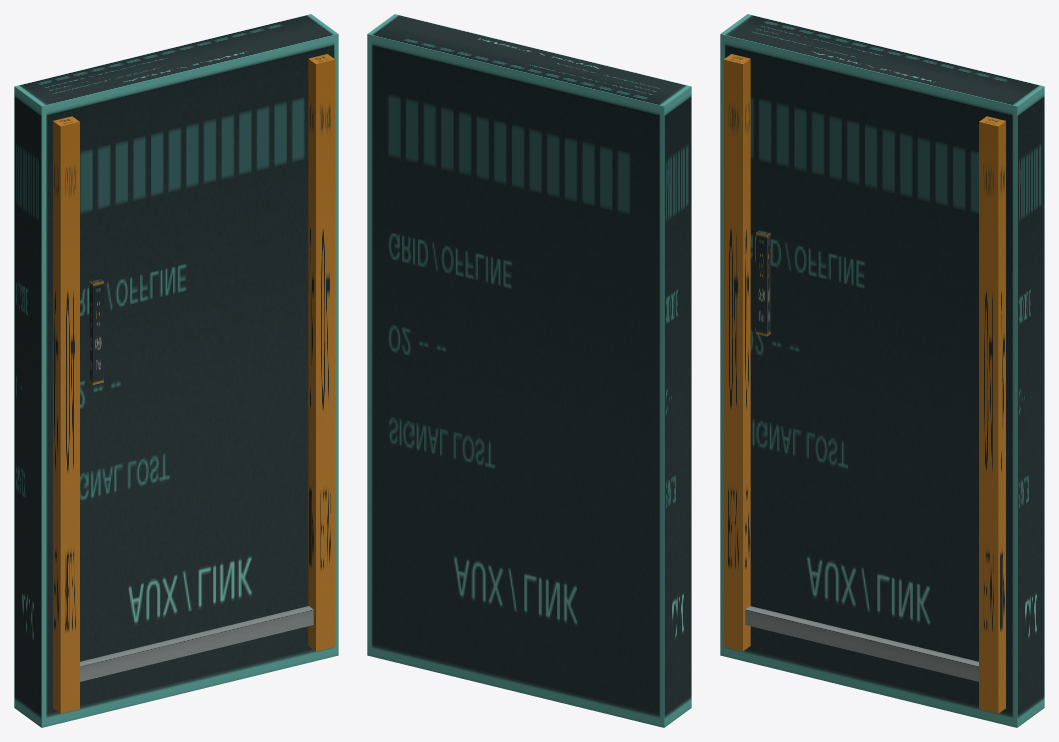
File: wall_solid_2m_LOD2.obj
The picture shows the model from 3 angles, left to right: view 1: azimuth 30°, elevation 25°; view 2: azimuth 150°, elevation 25°; view 3: azimuth 330°, elevation 25°; orthographic projection.
Parts seen in each view (by area): view 1: L02_wall_solid_2m_LOD2; view 2: L02_wall_solid_2m_LOD2; view 3: L02_wall_solid_2m_LOD2.
Boxes of the visible parts, bbox=[...] form: L02_wall_solid_2m_LOD2: bbox=[14, 14, 338, 727]; L02_wall_solid_2m_LOD2: bbox=[367, 14, 691, 727]; L02_wall_solid_2m_LOD2: bbox=[720, 14, 1044, 727].
Bounding box in the file's own units: 2 × 4 × 0.41.
Materials: 1 (1 with a texture image).
